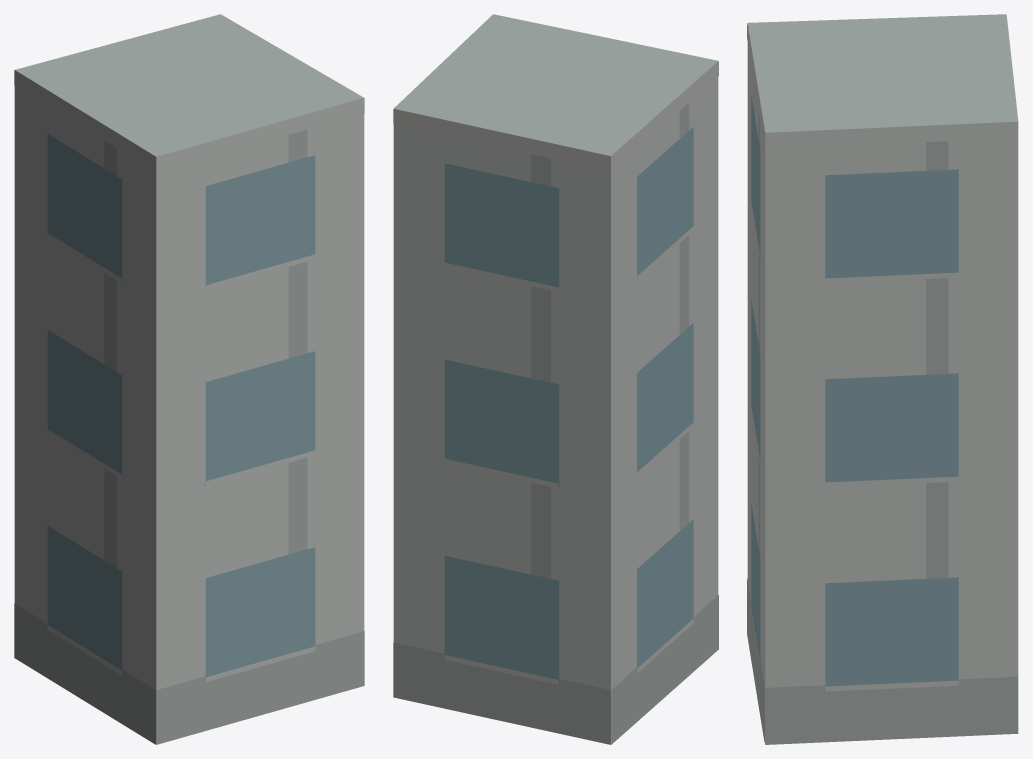
File: survey-upis-33008292.glb
3 renders of one model, left to right at view 1: azimuth 30°, elevation 25°; view 2: azimuth 150°, elevation 25°; view 3: azimuth 270°, elevation 25°, orthographic. The views are drawn at different scales.
Parts seen in each view (by area): view 1: survey-upis-33008292.tmp; view 2: survey-upis-33008292.tmp; view 3: survey-upis-33008292.tmp.
Boxes of the visible parts, <box> form: survey-upis-33008292.tmp: <box>14,14,364,744</box>; survey-upis-33008292.tmp: <box>393,14,718,744</box>; survey-upis-33008292.tmp: <box>747,14,1018,744</box>.
Size of the model in its own units: 3.82 by 9.15 by 3.68.
